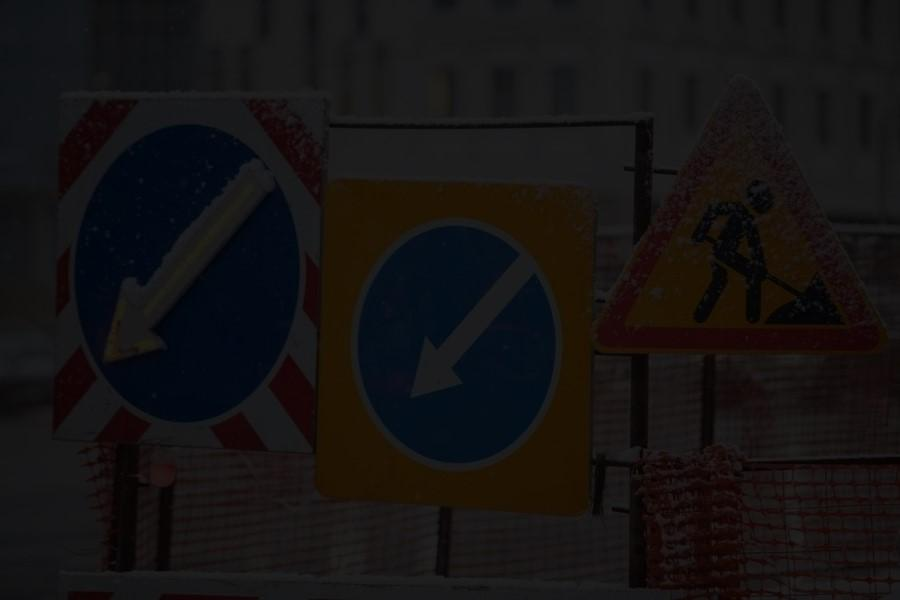obstructed_road_sign: (52, 93, 329, 453), (594, 72, 890, 353)
road_sign: (315, 177, 592, 515)
